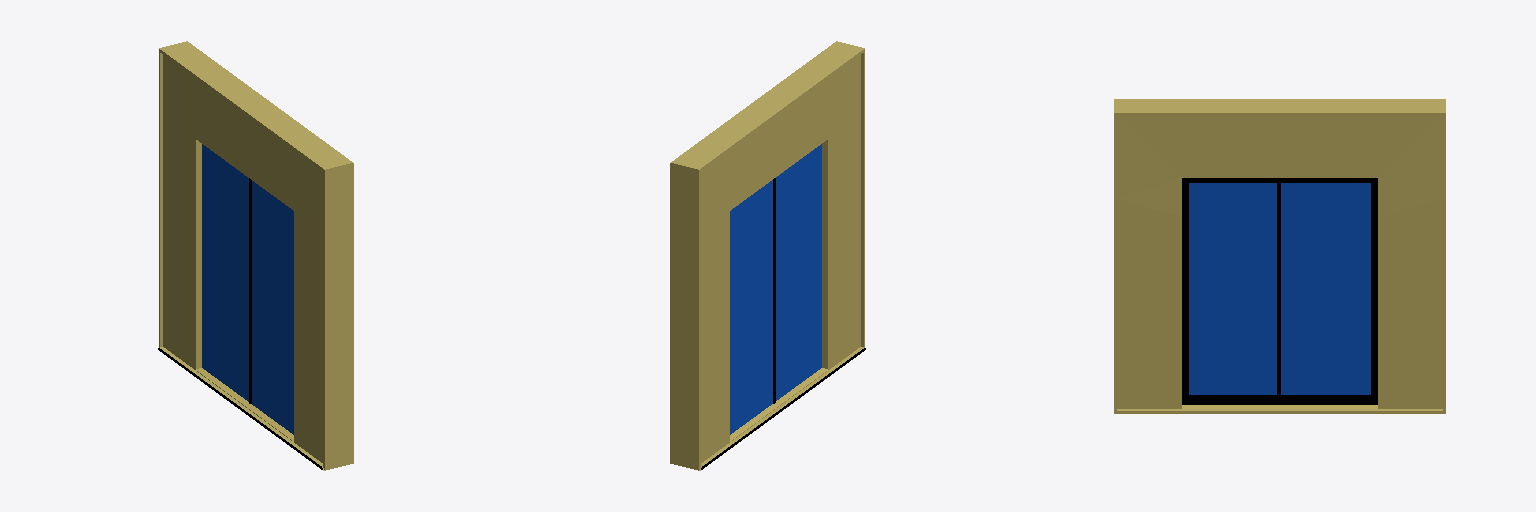
File: simpleDoor.obj
3 views of the same model, side by side, from view 1: azimuth 30°, elevation 25°; view 2: azimuth 150°, elevation 25°; view 3: azimuth 270°, elevation 25° (orthographic).
Parts seen in each view (by area): view 1: Door1_Cube.012; view 2: Door1_Cube.012; view 3: Door1_Cube.012.
Part boxes in pixels (x1,y1,x2,y2): Door1_Cube.012: (158, 41, 353, 470); Door1_Cube.012: (670, 41, 865, 470); Door1_Cube.012: (1114, 99, 1445, 413).
Size of the model in its own units: 0.1073 by 1 by 1.